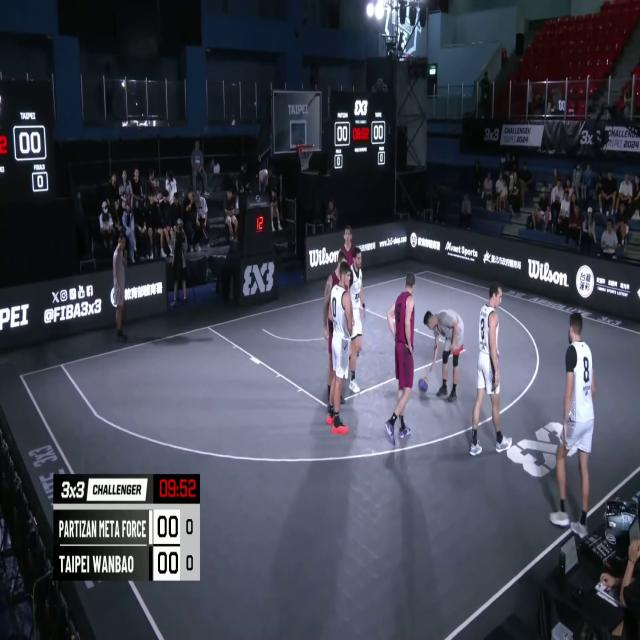ball: (416, 373, 431, 396)
hoop: (296, 141, 315, 173)
player: (549, 308, 596, 542), (471, 284, 511, 466), (384, 270, 419, 452), (324, 261, 352, 437), (324, 251, 352, 413), (346, 243, 365, 392), (338, 229, 358, 268)
